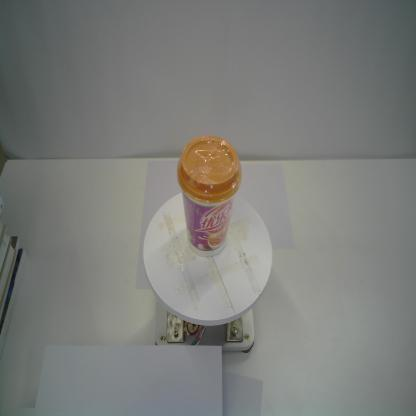Instant Drink: (176, 135, 243, 258)
